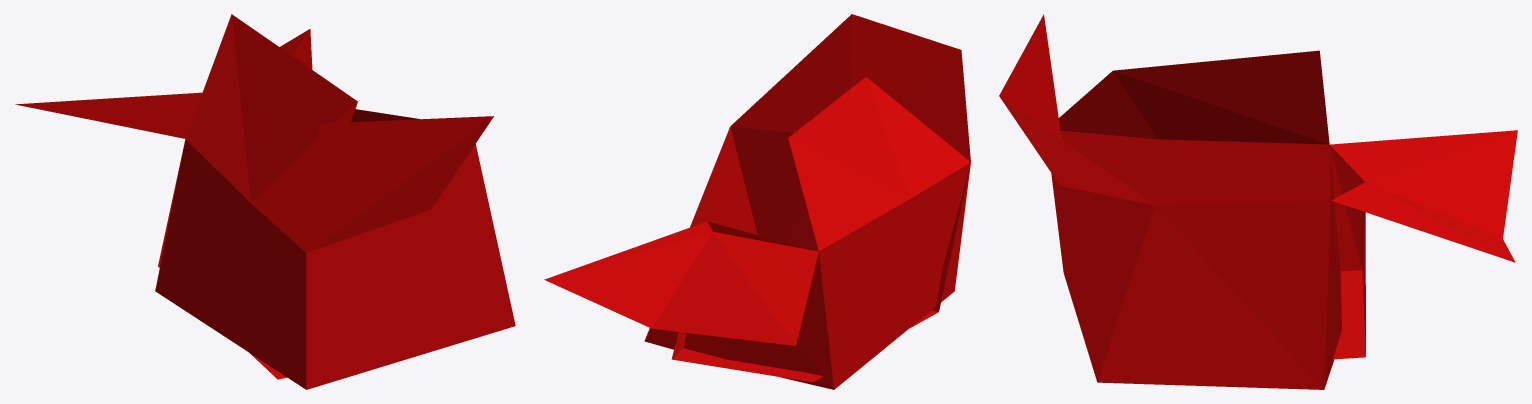
3 views of the same model, side by side, from view 1: azimuth 30°, elevation 25°; view 2: azimuth 150°, elevation 25°; view 3: azimuth 270°, elevation 25° (orthographic). The views are drawn at different scales.
Parts seen in each view (by area): view 1: Mesh; view 2: Mesh; view 3: Mesh.
Part boxes in pixels (bbox=[...]): Mesh: bbox=[15, 14, 515, 389]; Mesh: bbox=[544, 14, 970, 389]; Mesh: bbox=[999, 14, 1517, 389].
Bounding box in the file's own units: 0.8515 × 0.79 × 1.36.
